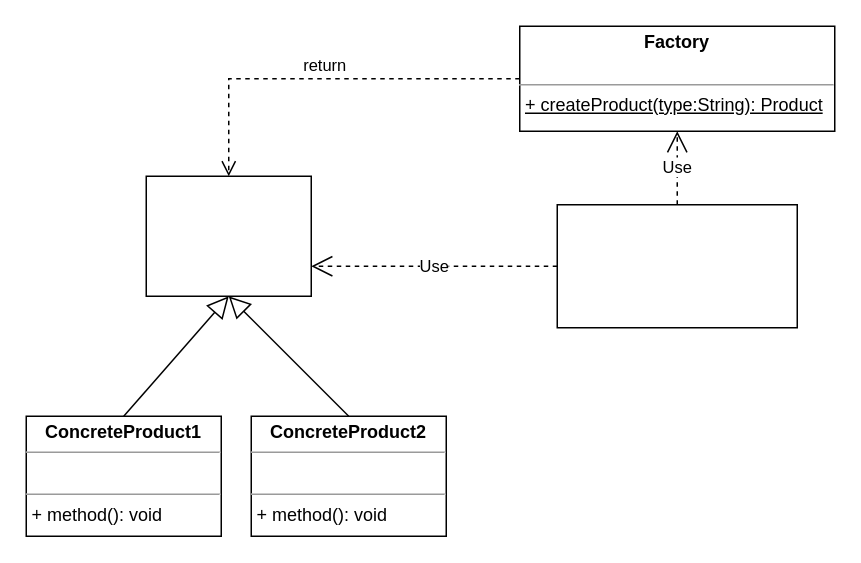
Some shapes in this 861 by 563 pixel diagram are drawn without their labels. The shapes that lost their labels are listed below. From the top down, each one's centre as x and y in pixels, then its label:
At (x=228, y=235): "Product + method(): void".
At (x=676, y=265): "Client + method(type:String): void".
